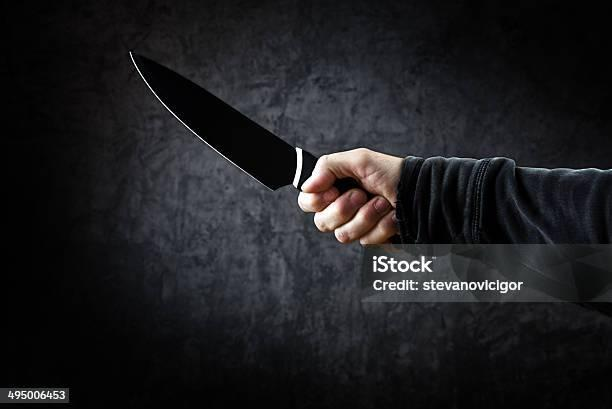Knife: (299, 147, 612, 316), (128, 47, 313, 191), (298, 148, 401, 244)
